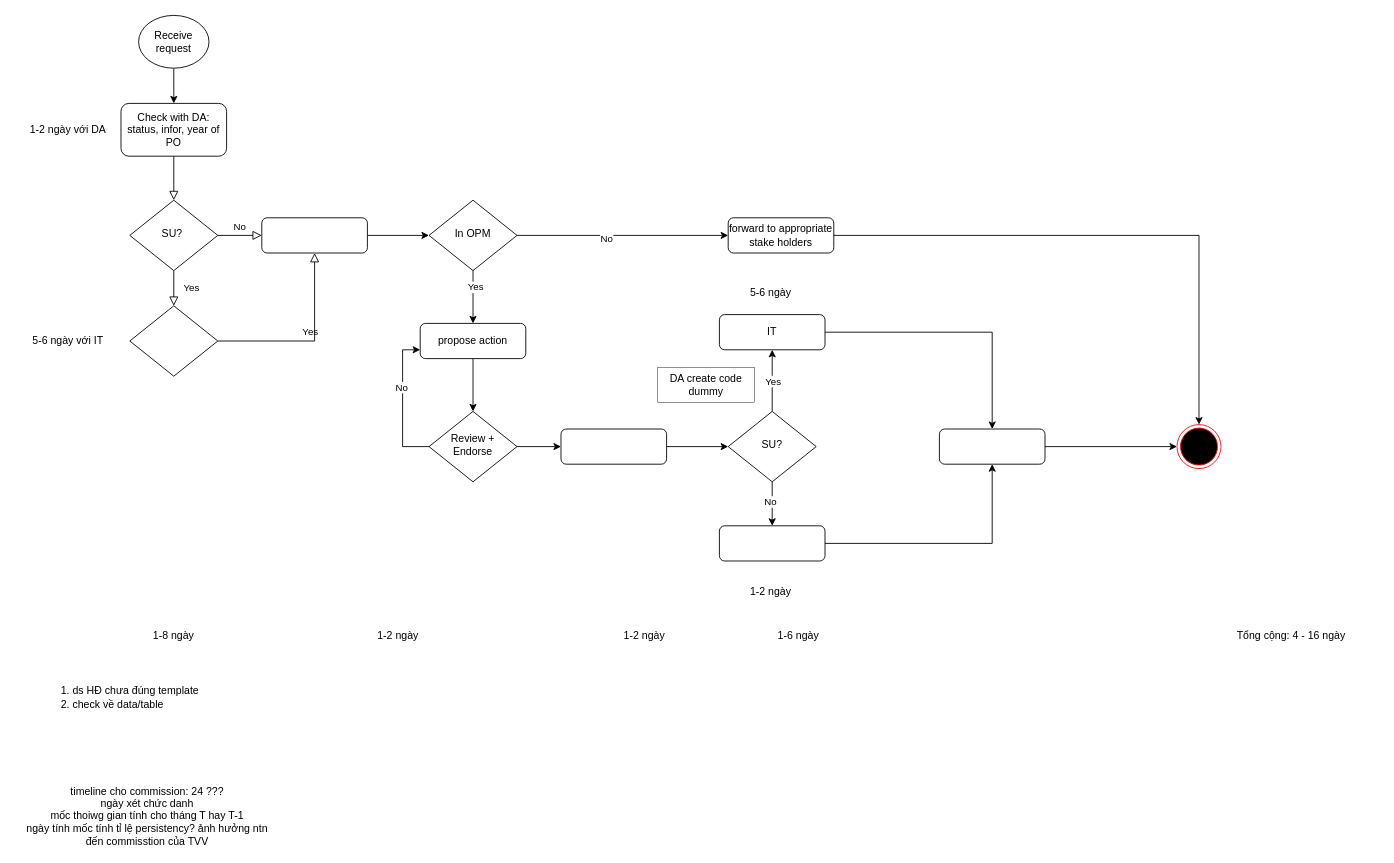
Some shapes in this 1394 by 863 pixel diagram are drawn without their labels. The centre of each missing label's shape, as x and y in pixels:
Check rule OPM: (314,235)
Check with IT: (173,340)
DA: (772,543)
Response to Head Performance: (992,446)
Send email action: (613,446)
